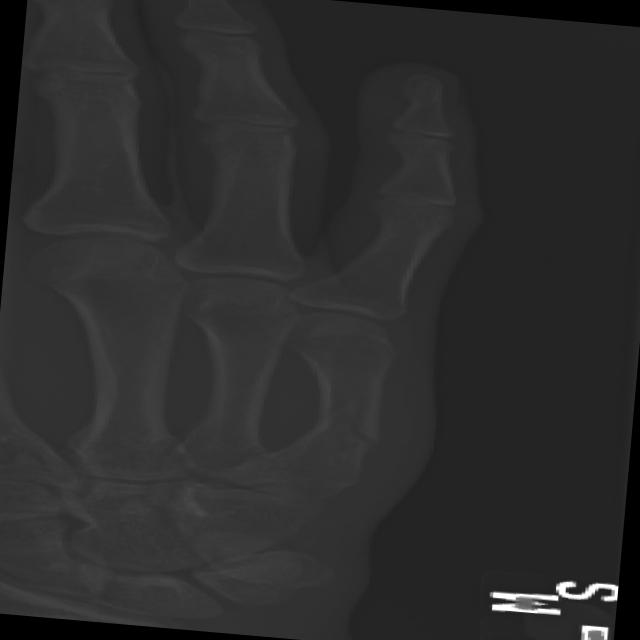fingers positive: (271, 373, 405, 491)
